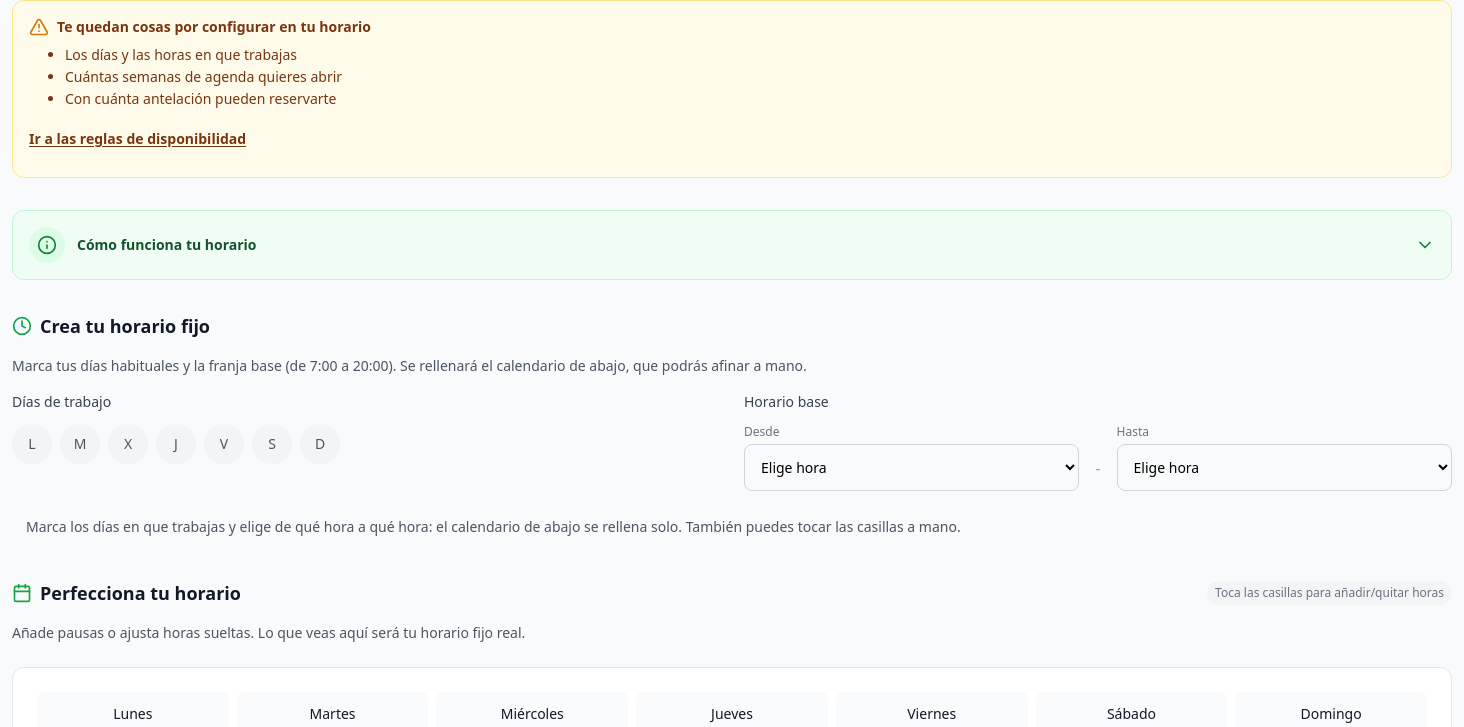
it: RecurringScheduleManager — sin valores preconfigurados › marcar un día NO rellena el calendario si no hay franja; con días Y franja, sí
Click the button titled "Lunes": (32, 444) 12,424 -> 52,464
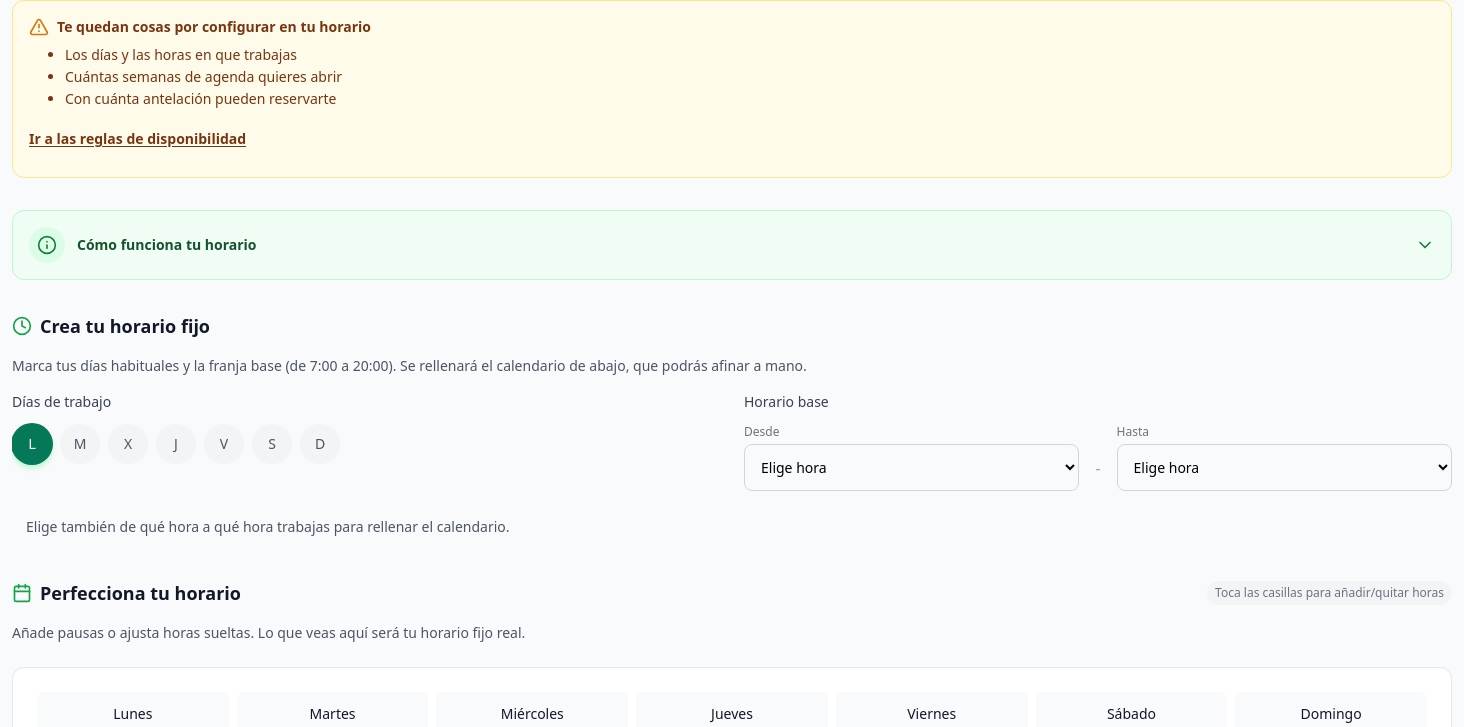
Expected: the list item "Los días y las horas en que trabajas" is shown, 65,45 -> 297,64
Result: the text "Elige también de qué hora a qué hora trabajas para rellenar el calendario." is shown at 12,507 -> 1452,547
Select "09:00" in the dropdown below "Desde": (912, 468) 744,444 -> 1079,491
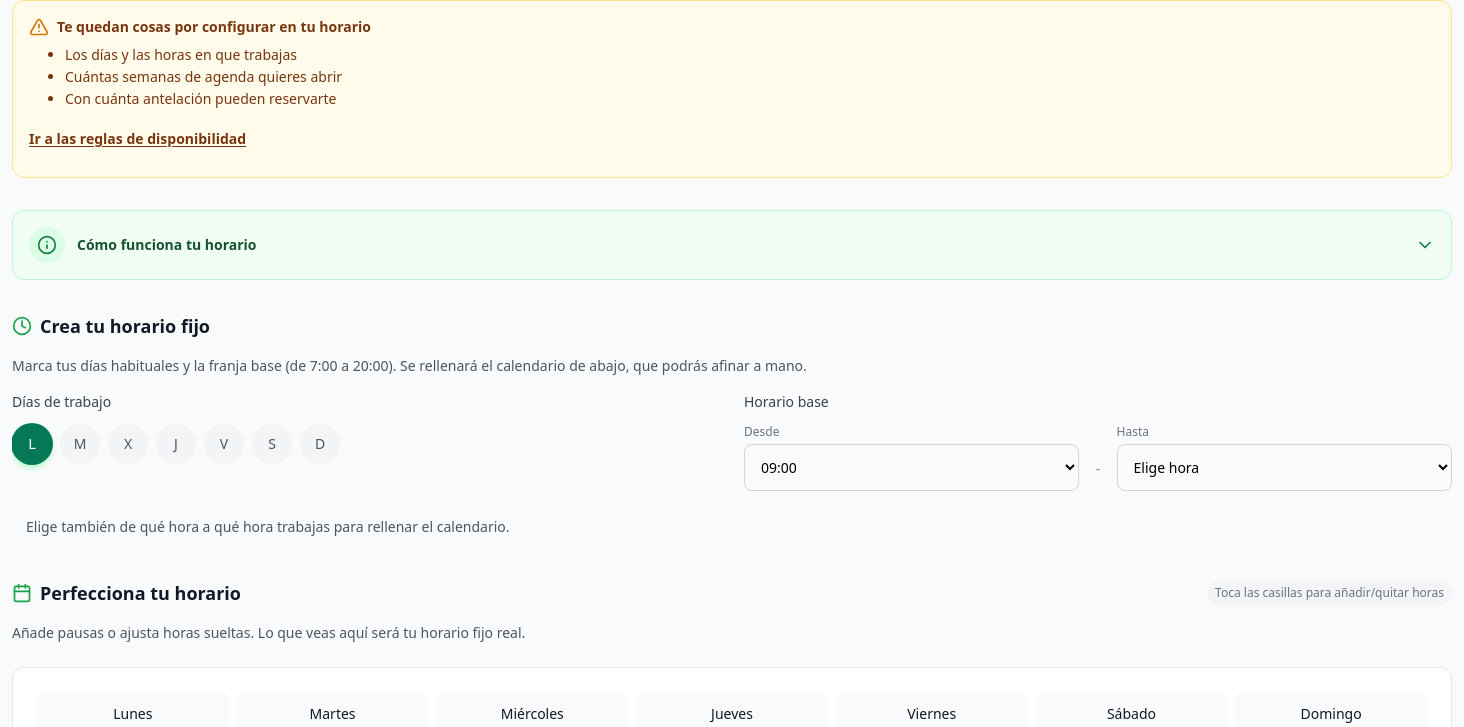
Expected: the list item "Los días y las horas en que trabajas" is shown, 65,45 -> 297,64
Select "14:00" in the dropdown below "Hasta": (1284, 468) 1117,444 -> 1452,491
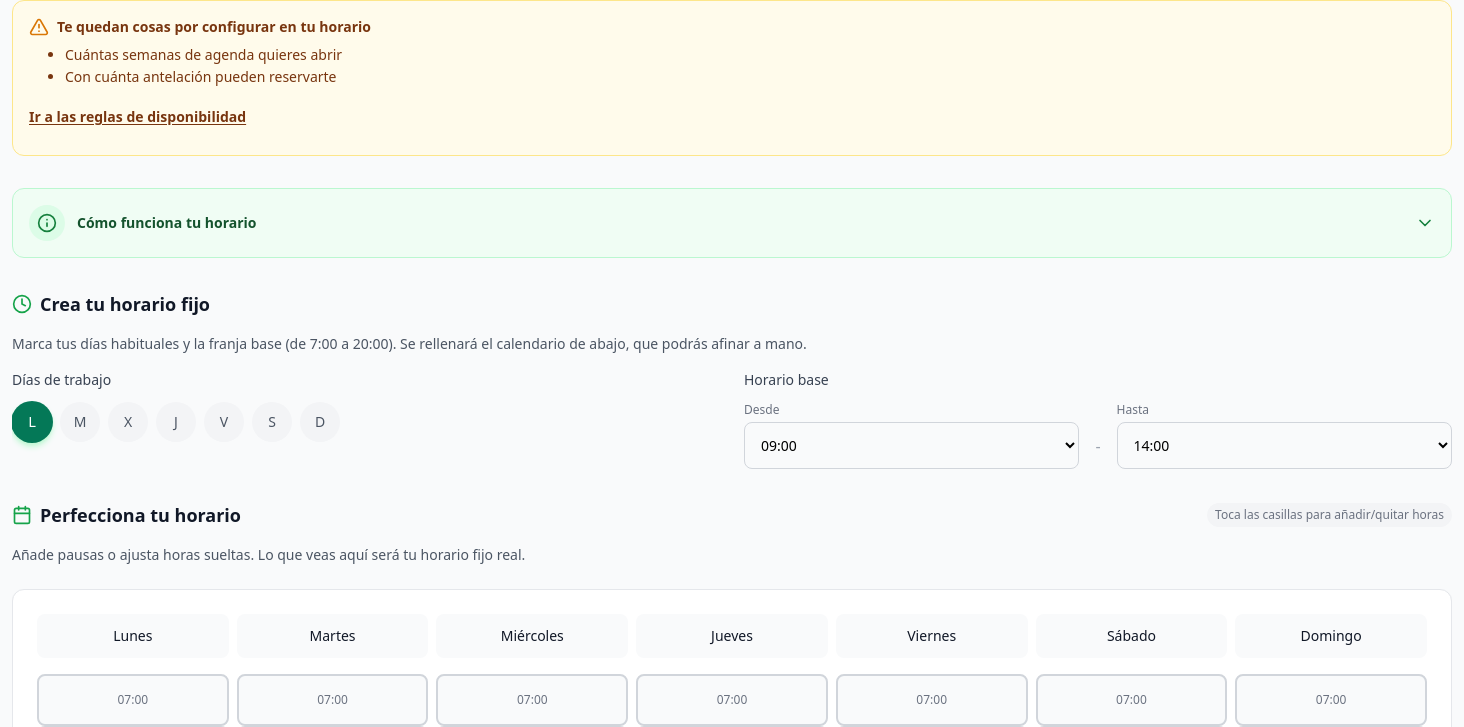
Result: the list item "Los días y las horas en que trabajas" is gone
